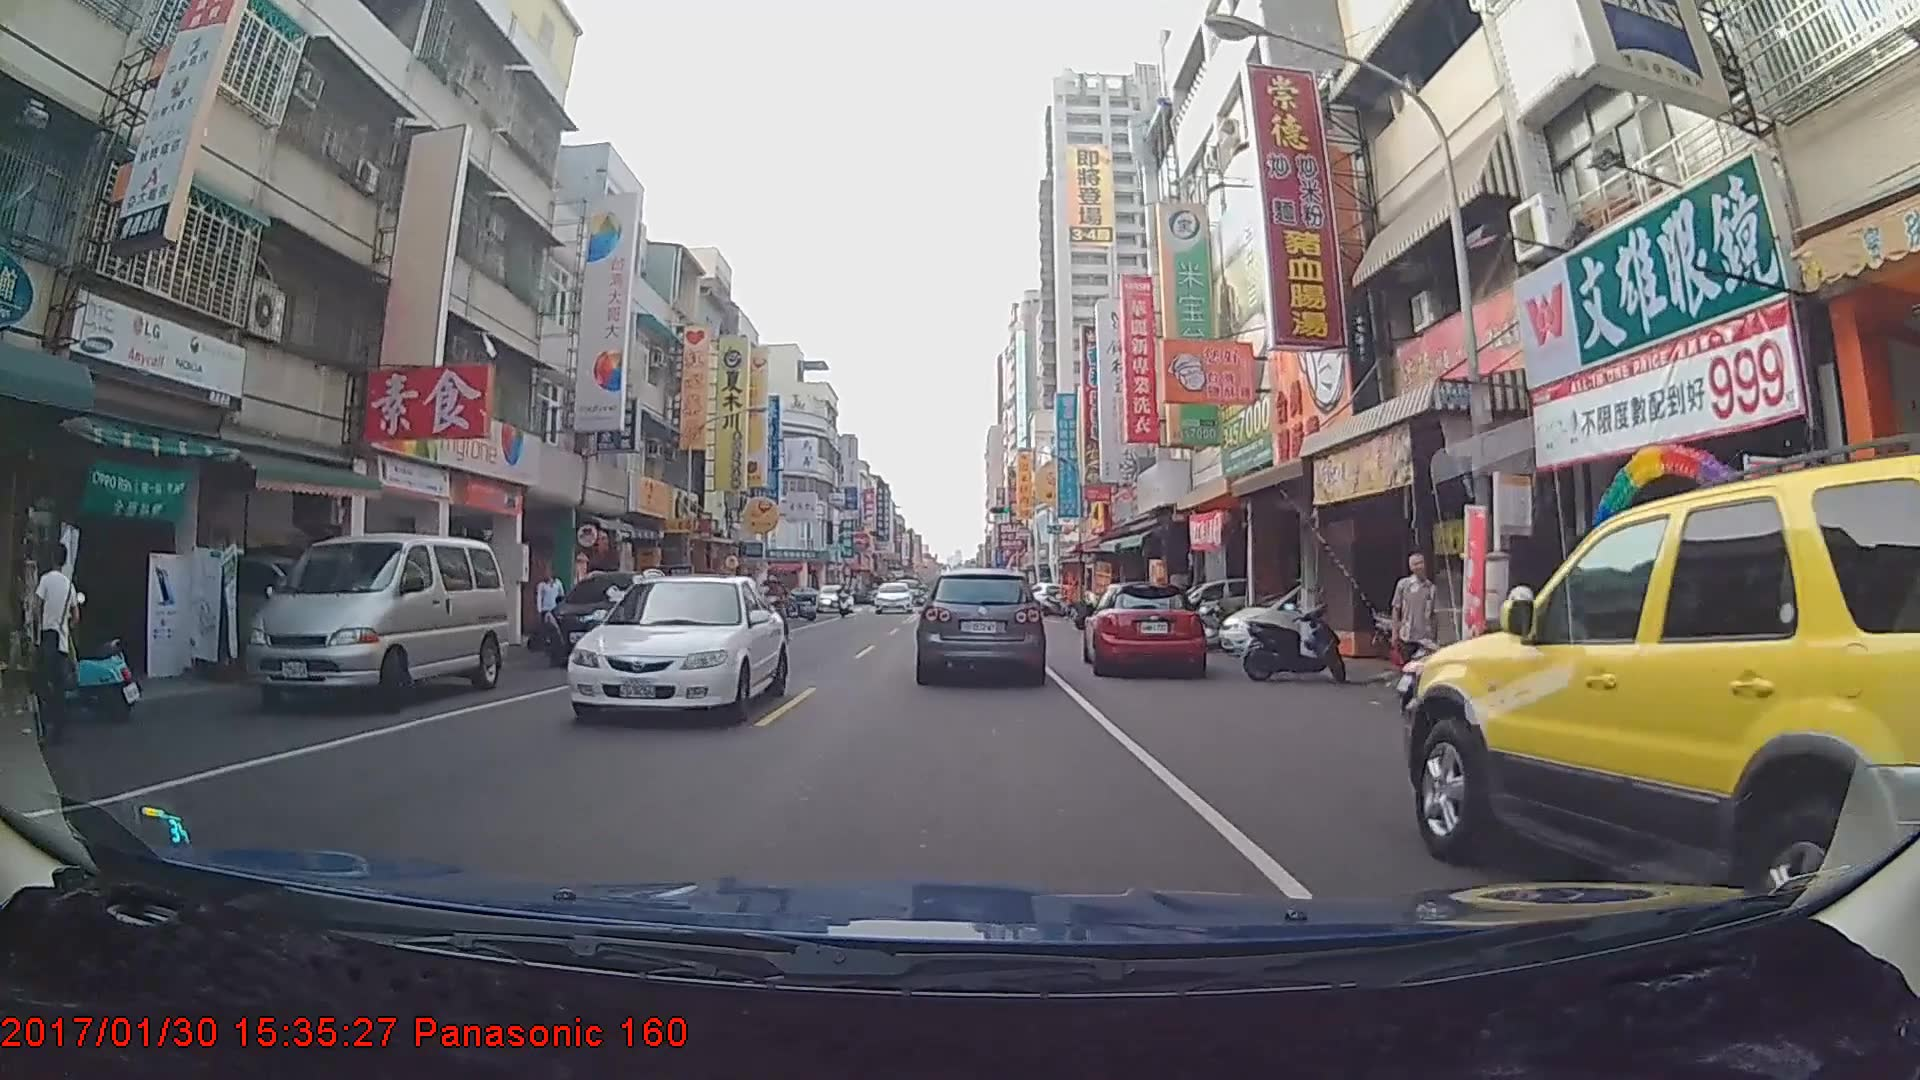pedestrian: (31, 545, 81, 743), (1390, 553, 1444, 716), (535, 569, 569, 644)
vehicle: (1406, 457, 1920, 953), (240, 529, 511, 712), (566, 571, 784, 726), (919, 567, 1044, 683), (540, 571, 676, 667), (1080, 579, 1205, 677), (871, 585, 912, 617), (815, 586, 853, 615)
